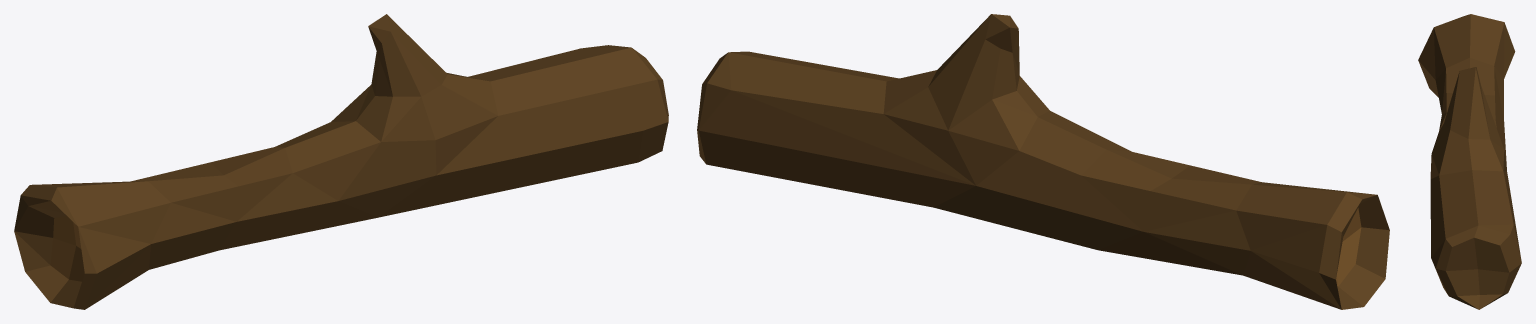
The model's file is koryaga.fbx.
The picture shows the model from 3 angles, left to right: view 1: azimuth 30°, elevation 25°; view 2: azimuth 150°, elevation 25°; view 3: azimuth 270°, elevation 25°; orthographic projection. The views are drawn at different scales.
Parts seen in each view (by area): view 1: Cube; view 2: Cube; view 3: Cube.
Boxes of the visible parts, x1=… form: Cube: x1=14, y1=14, x2=668, y2=309; Cube: x1=697, y1=14, x2=1389, y2=309; Cube: x1=1418, y1=14, x2=1521, y2=309.
Size of the model in its own units: 2332 by 734 by 462.
